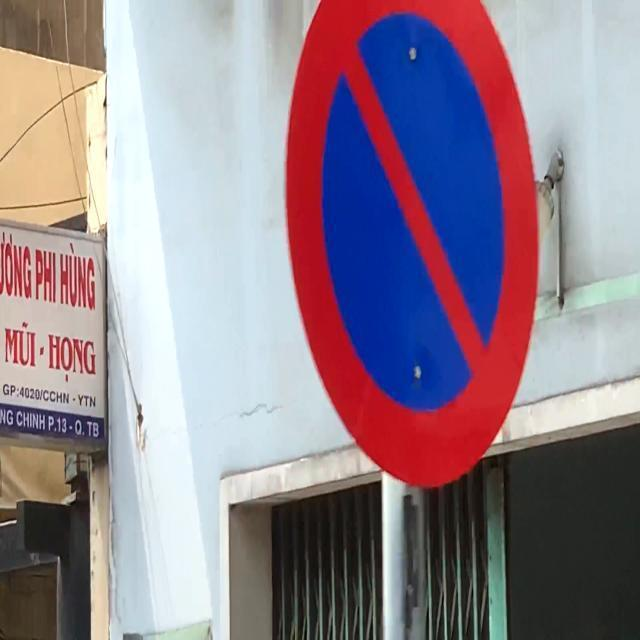131a-cam-do-xe: (284, 1, 539, 488)
